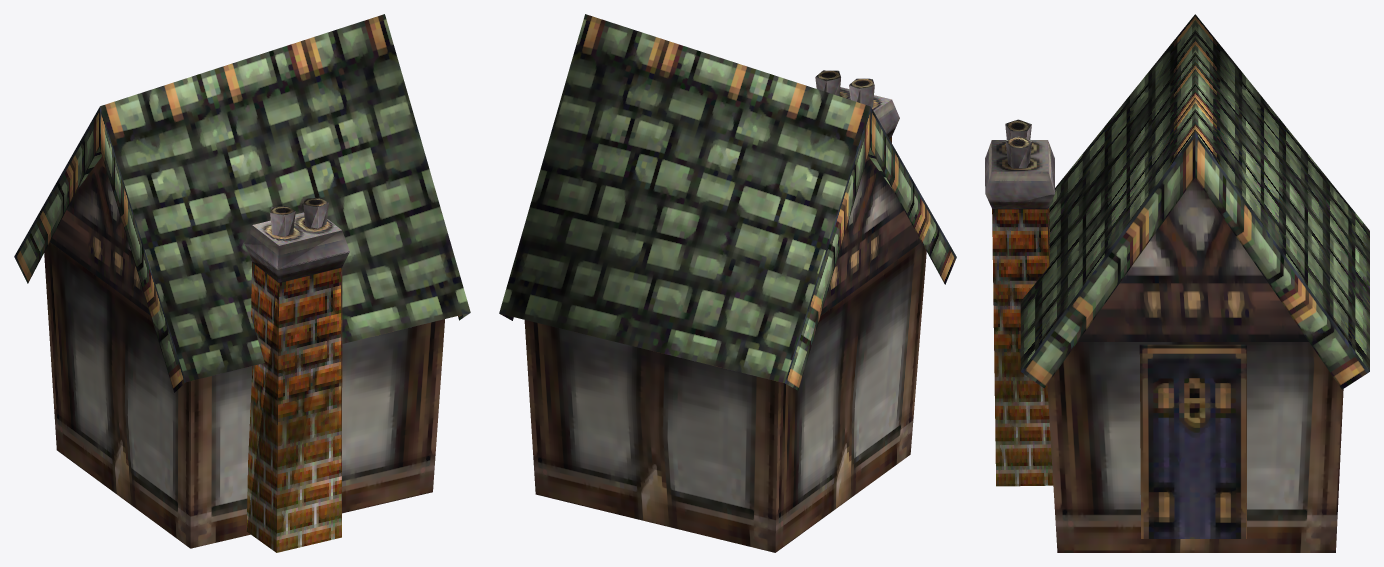
File: villageBuilding.obj
3 views of the same model, side by side, from view 1: azimuth 30°, elevation 25°; view 2: azimuth 150°, elevation 25°; view 3: azimuth 270°, elevation 25° (orthographic).
Visible parts, largest first — view 1: VillageBuilding0; view 2: VillageBuilding0; view 3: VillageBuilding0.
Boxes of the visible parts, bbox=[...] form: VillageBuilding0: bbox=[14, 14, 470, 552]; VillageBuilding0: bbox=[499, 14, 956, 552]; VillageBuilding0: bbox=[985, 14, 1369, 552].
Bounding box in the file's own units: 3.64 × 5.17 × 4.19.
Materials: 1 (1 with a texture image).
